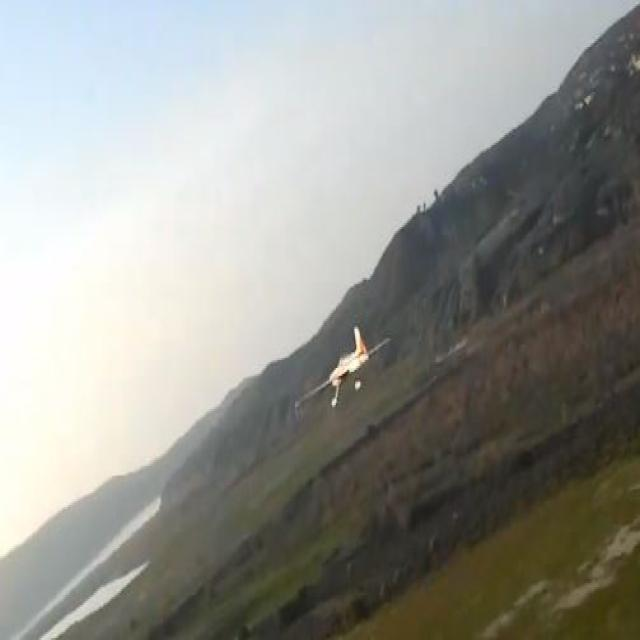iha: (327, 356, 359, 378)
